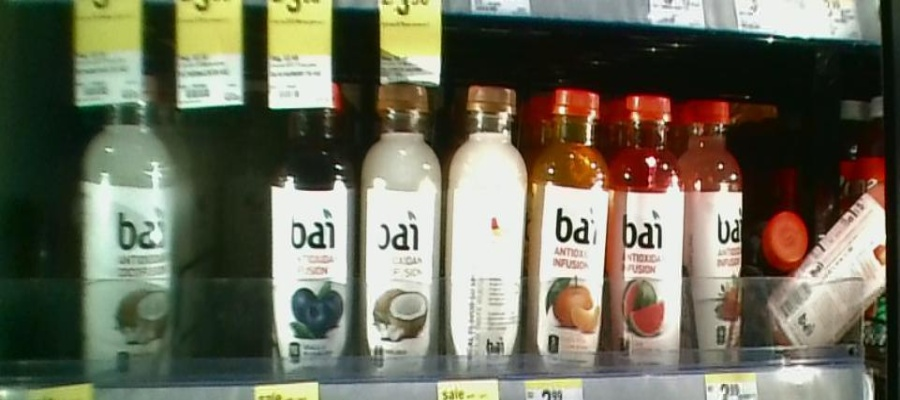bottle: (76, 81, 174, 393), (445, 83, 533, 377), (358, 77, 443, 377), (270, 85, 354, 370), (533, 84, 608, 377), (608, 83, 685, 367), (686, 83, 743, 390), (217, 80, 268, 280), (748, 186, 819, 294)
